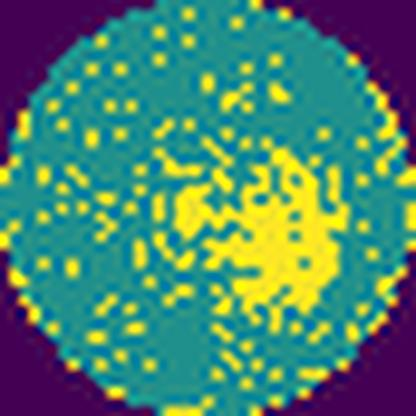Loc: (152, 141, 350, 334)
